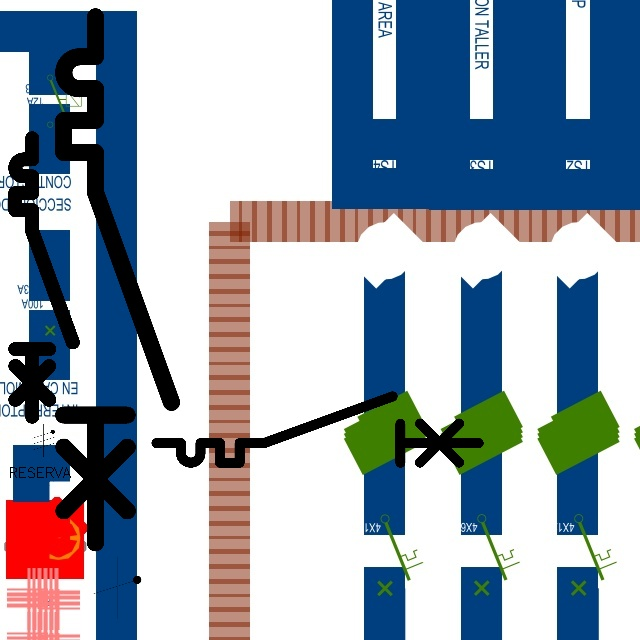interruptor_termomagnetico: (50, 3, 185, 556), (148, 388, 487, 471), (8, 131, 79, 424)
